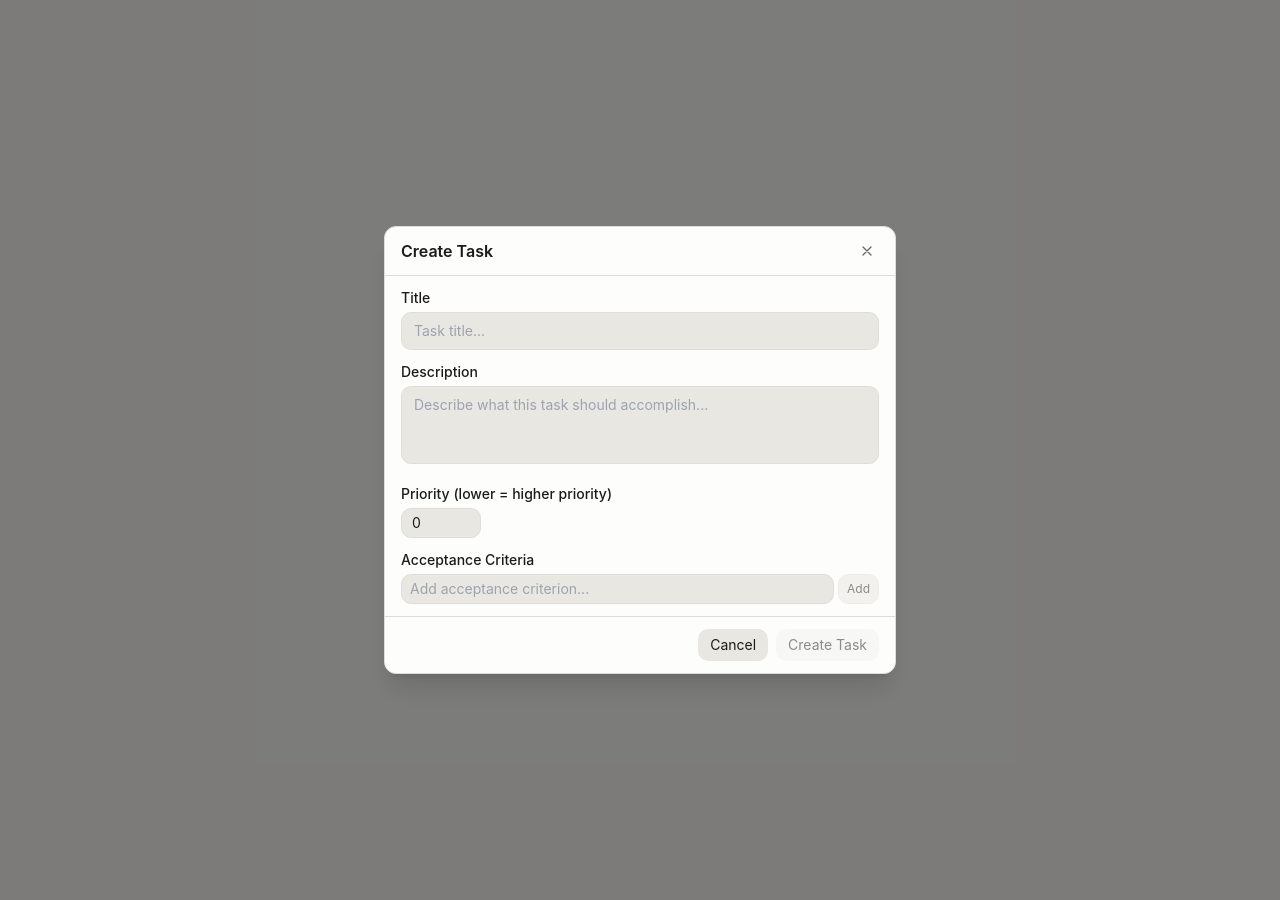
CreateTaskDialog › adds acceptance criteria
Type "Tests pass" into the field with placeholder "Add acceptance criterion..." at (618, 589), box [401, 574, 834, 604]
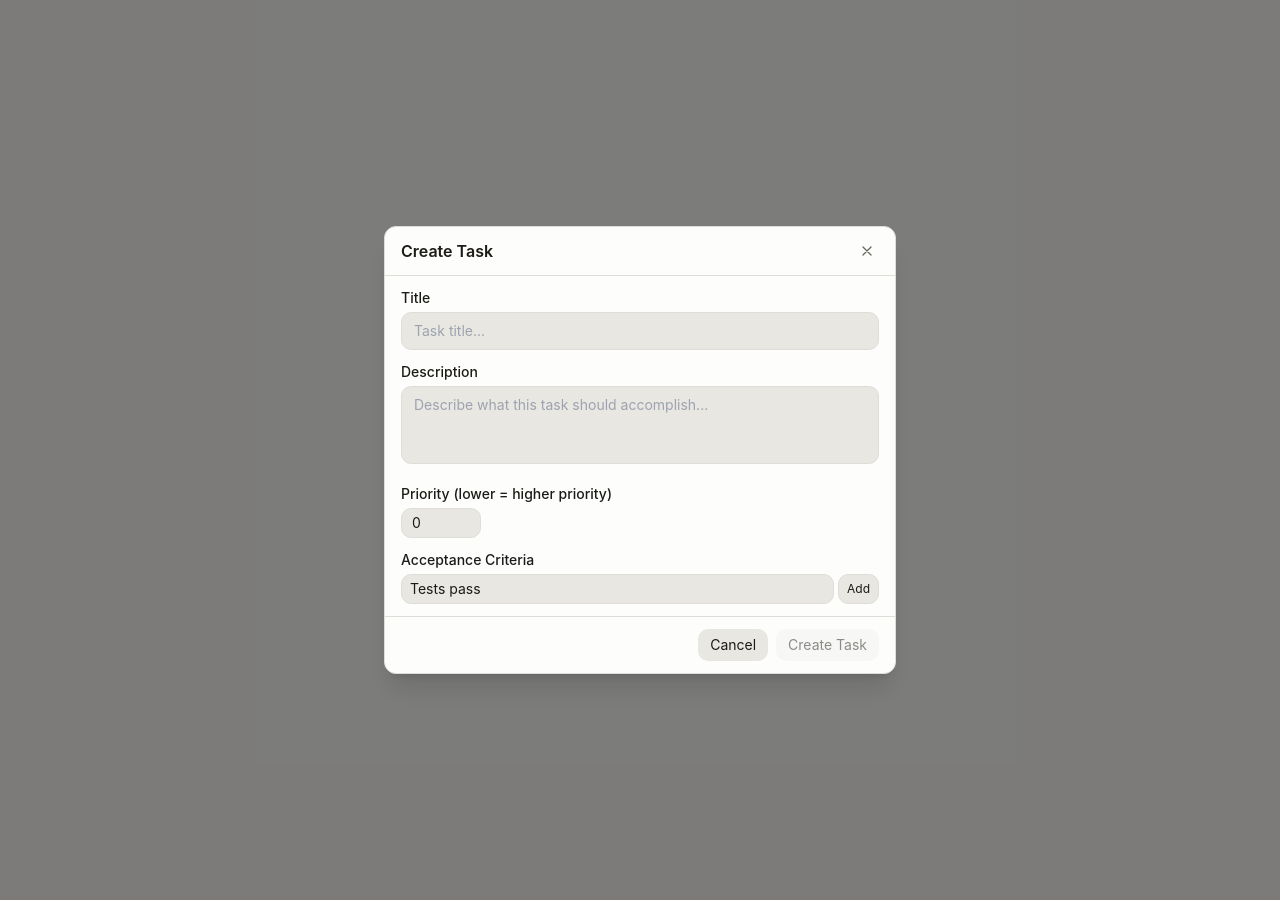
Click the button "Add" at (858, 589), box [838, 574, 879, 604]
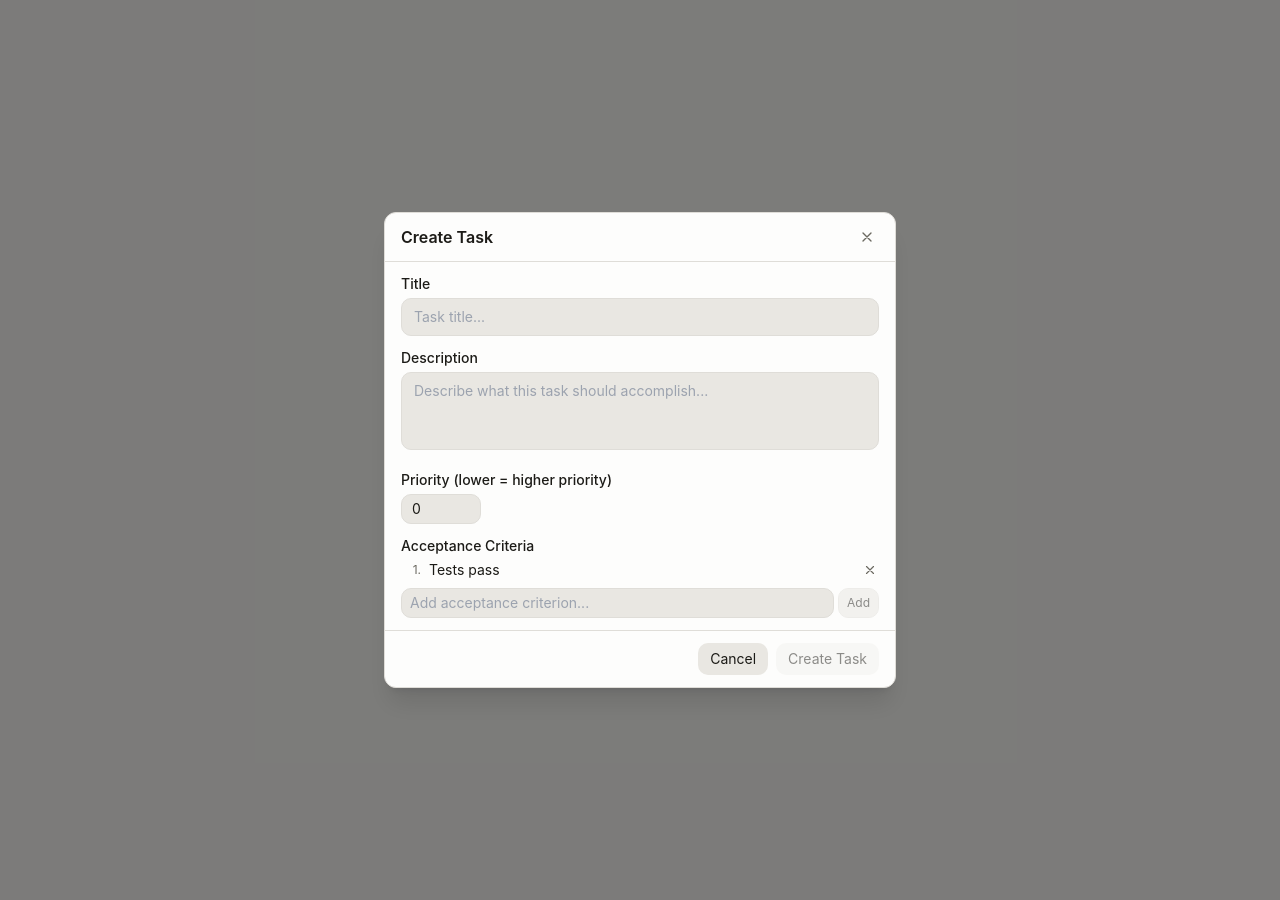
Expected: the text "Tests pass" is shown, [429, 561, 500, 578]
